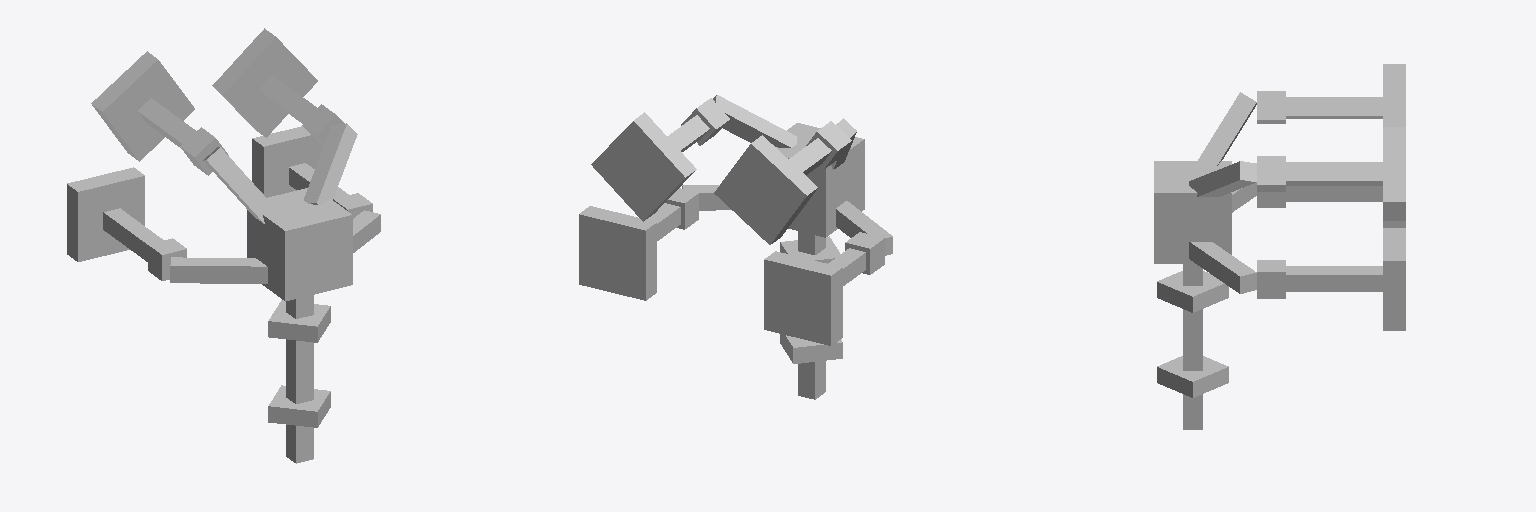
The model's file is tank_hodun.obj.
The picture shows the model from 3 angles: view 1: azimuth 30°, elevation 25°; view 2: azimuth 150°, elevation 25°; view 3: azimuth 270°, elevation 25°; orthographic projection.
Visible parts, largest first — view 1: Object.19, Object.9, Object.2, Object.13, Object.5, Object.17, Object.15, Object.1, Object.11, Object.18, Object.20, Object.16 (+8 smaller); view 2: Object.13, Object.5, Object.9, Object.2, Object.19, Object.1, Object.17, Object.15, Object.18, Object.14, Object.10, Object.3 (+7 smaller); view 3: Object.19, Object.8, Object.5, Object.4, Object.17, Object.2, Object.12, Object.7, Object.18, Object.20, Object.11, Object.1 (+5 smaller).
Boxes of the visible parts, box(x1,y1,x2,y2) form: Object.19: box(247, 188, 352, 301); Object.9: box(91, 51, 194, 161); Object.2: box(212, 28, 317, 137); Object.13: box(67, 167, 144, 261); Object.5: box(252, 126, 323, 197); Object.17: box(286, 295, 313, 463); Object.15: box(170, 257, 267, 283); Object.1: box(304, 123, 357, 205); Object.11: box(203, 147, 279, 223); Object.18: box(268, 385, 330, 427); Object.20: box(268, 300, 330, 342); Object.16: box(103, 208, 163, 261); Object.13: box(764, 251, 842, 345); Object.5: box(579, 206, 656, 300); Object.9: box(714, 135, 817, 244); Object.2: box(591, 112, 696, 221); Object.19: box(776, 123, 864, 237); Object.1: box(713, 95, 797, 147); Object.17: box(798, 231, 825, 399); Object.15: box(836, 201, 892, 255); Object.18: box(780, 334, 842, 363); Object.14: box(845, 232, 884, 274); Object.10: box(806, 121, 851, 168); Object.3: box(681, 98, 729, 145); Object.19: box(1154, 161, 1231, 263); Object.8: box(1286, 266, 1382, 291); Object.5: box(1383, 228, 1405, 330); Object.4: box(1286, 162, 1382, 185); Object.17: box(1183, 264, 1202, 429); Object.2: box(1383, 127, 1405, 220); Object.12: box(1286, 97, 1382, 118); Object.7: box(1189, 242, 1256, 293); Object.18: box(1157, 356, 1228, 397); Object.20: box(1157, 271, 1228, 312); Object.11: box(1193, 92, 1256, 167); Object.1: box(1189, 161, 1256, 196).
Bounding box in the file's own units: 150 × 193 × 130.